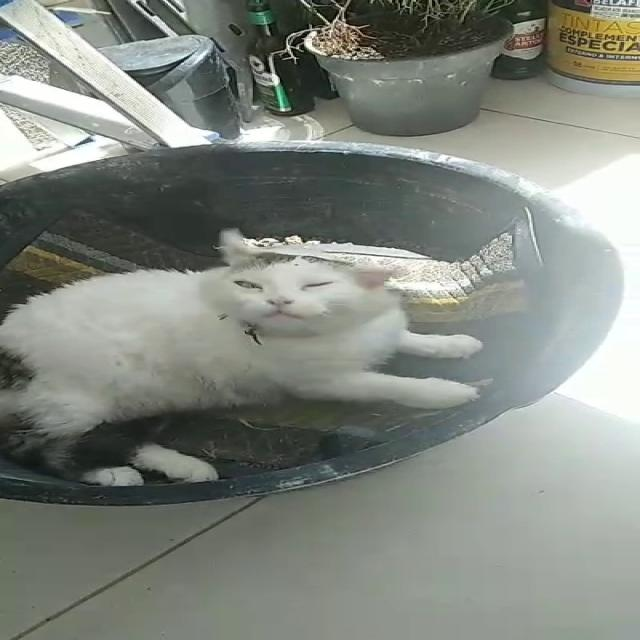Simba: (3, 209, 502, 497)
